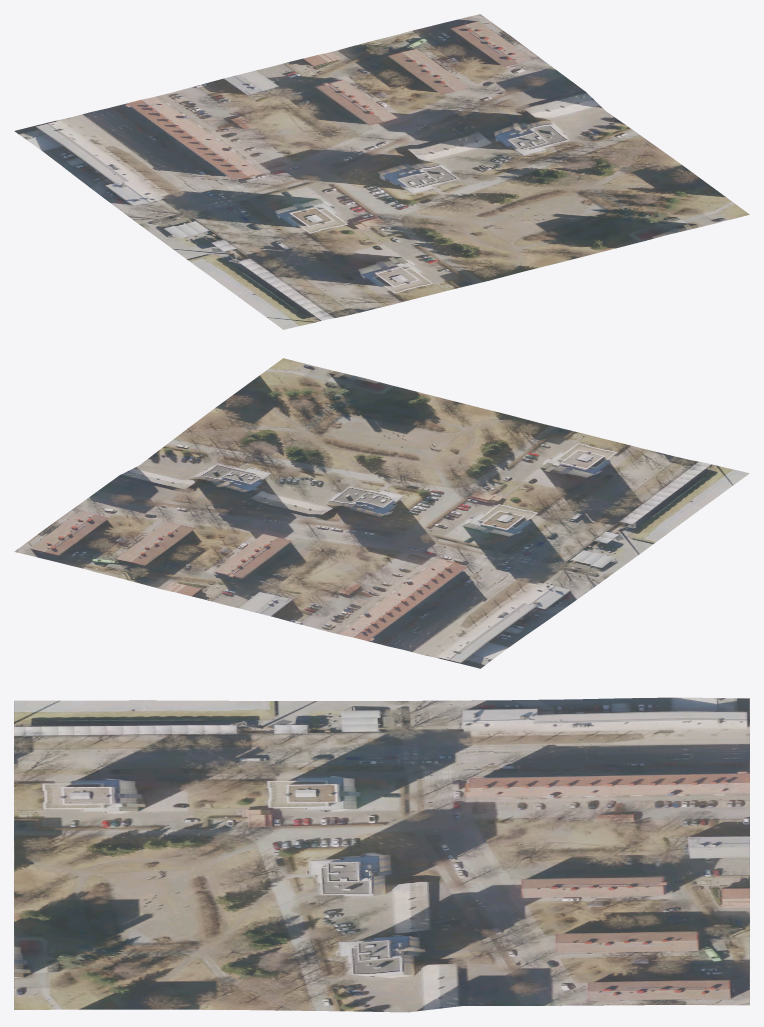
Rendered from CM_Terrain_24488615_6821227.fbx.
The picture shows the model from 3 angles, top to bottom: view 1: azimuth 30°, elevation 25°; view 2: azimuth 150°, elevation 25°; view 3: azimuth 270°, elevation 25°; orthographic projection. The views are drawn at different scales.
Visible parts, largest first — view 1: CM_Terrain_24488615_6821227_LOD0; view 2: CM_Terrain_24488615_6821227_LOD0; view 3: CM_Terrain_24488615_6821227_LOD0.
Boxes of the visible parts, x1,y1,x2,y2 form: CM_Terrain_24488615_6821227_LOD0: (14, 14, 749, 329); CM_Terrain_24488615_6821227_LOD0: (14, 358, 749, 668); CM_Terrain_24488615_6821227_LOD0: (14, 697, 749, 1012).
Size of what is drawn, in the model's own units: 205 by 2.82 by 205.
